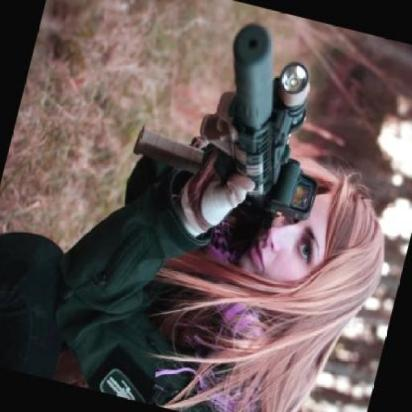Gun: (114, 8, 385, 274)
